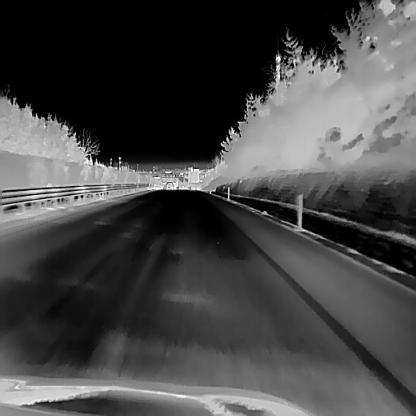car: (165, 181, 174, 190)
